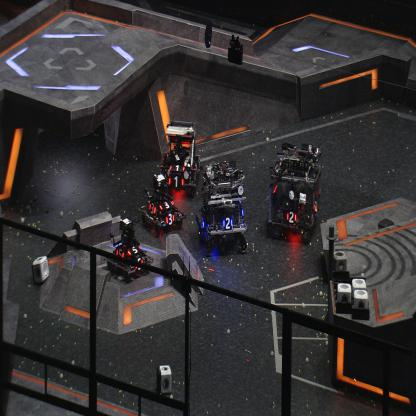car: (266, 141, 322, 244), (196, 160, 248, 258), (158, 119, 202, 198), (105, 218, 154, 284), (138, 174, 186, 235)
